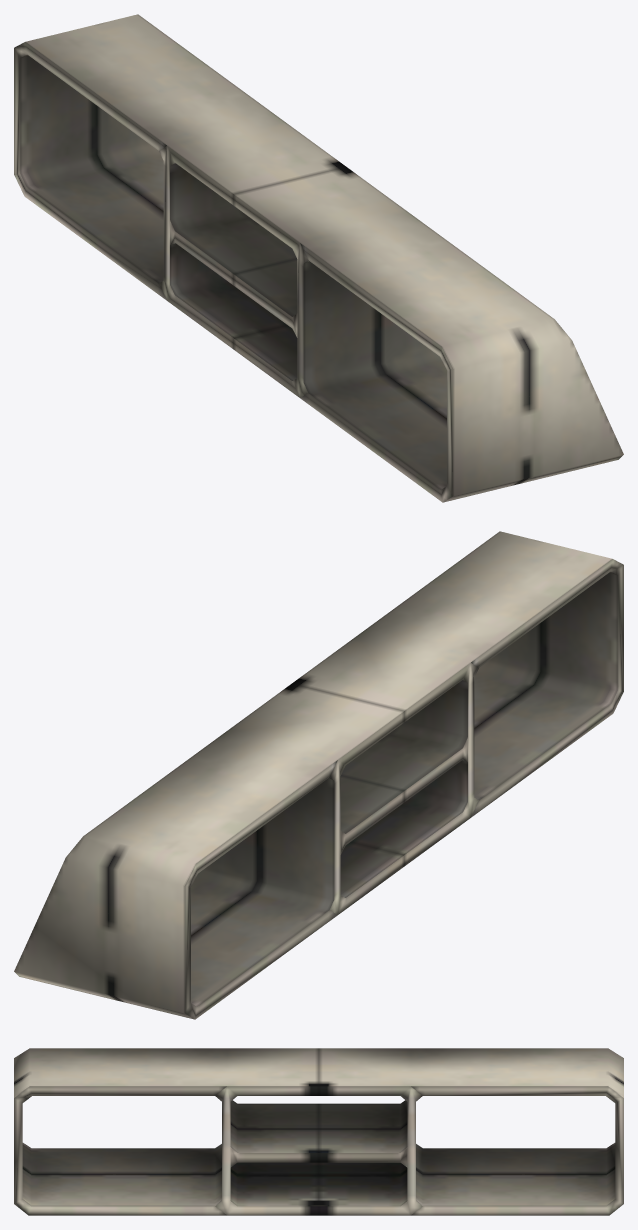
File: Shelf01_S.FBX
The picture shows the model from 3 angles, top to bottom: view 1: azimuth 30°, elevation 25°; view 2: azimuth 150°, elevation 25°; view 3: azimuth 270°, elevation 25°; orthographic projection. The views are drawn at different scales.
Parts seen in each view (by area): view 1: Shelf01_S; view 2: Shelf01_S; view 3: Shelf01_S.
Boxes of the visible parts, bbox=[...] form: Shelf01_S: bbox=[14, 14, 623, 502]; Shelf01_S: bbox=[14, 531, 623, 1019]; Shelf01_S: bbox=[14, 1048, 623, 1215].
Bounding box in the file's own units: 0.5137 × 0.4321 × 2.21.
